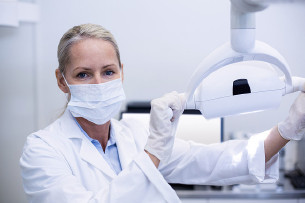face_mask: (66, 44, 122, 123)
